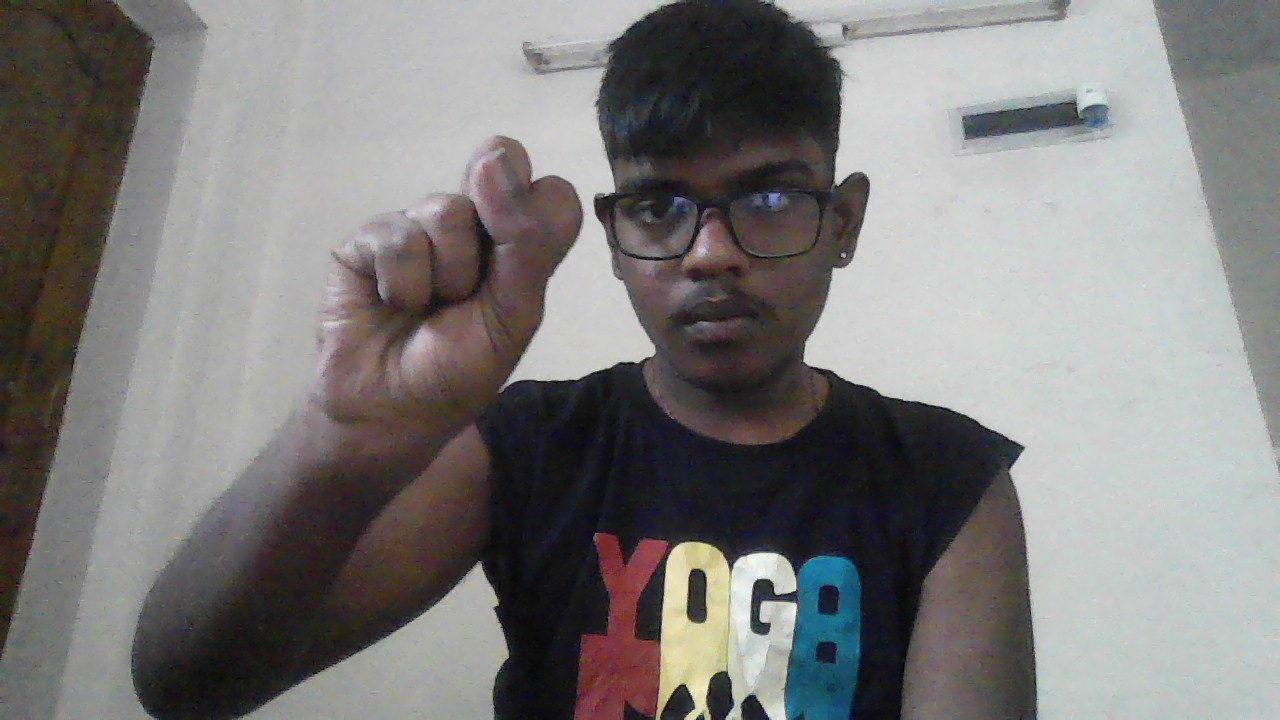S: (316, 135, 584, 411)
